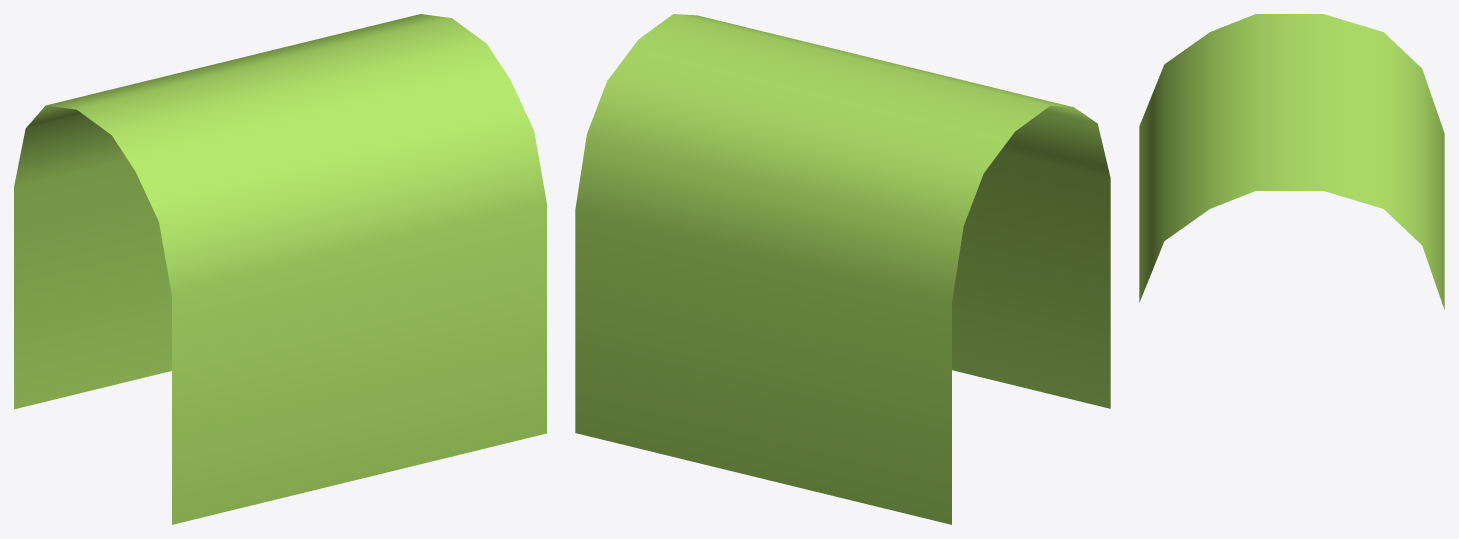
File: Museum_Wall_Ark.fbx
The picture shows the model from 3 angles, left to right: view 1: azimuth 30°, elevation 25°; view 2: azimuth 150°, elevation 25°; view 3: azimuth 270°, elevation 25°; orthographic projection. The views are drawn at different scales.
Parts seen in each view (by area): view 1: Archi_Murs.002; view 2: Archi_Murs.002; view 3: Archi_Murs.002.
Part boxes in pixels (bbox=[...]): Archi_Murs.002: bbox=[14, 14, 546, 524]; Archi_Murs.002: bbox=[575, 14, 1110, 524]; Archi_Murs.002: bbox=[1139, 14, 1444, 309].
Size of the model in its own units: 477 by 420 by 348.
